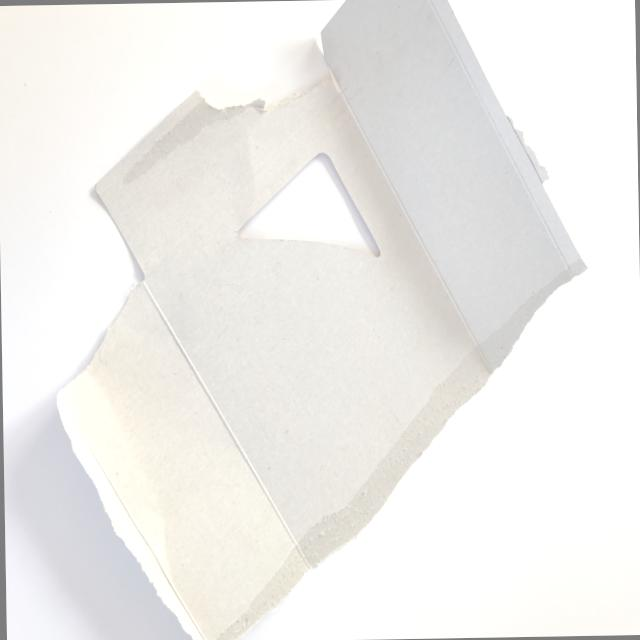Paper: (37, 0, 616, 640)
